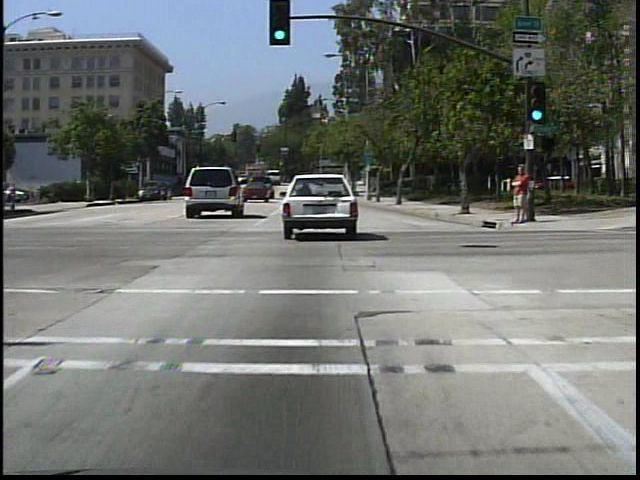person: (505, 163, 533, 228), (9, 180, 23, 210)
